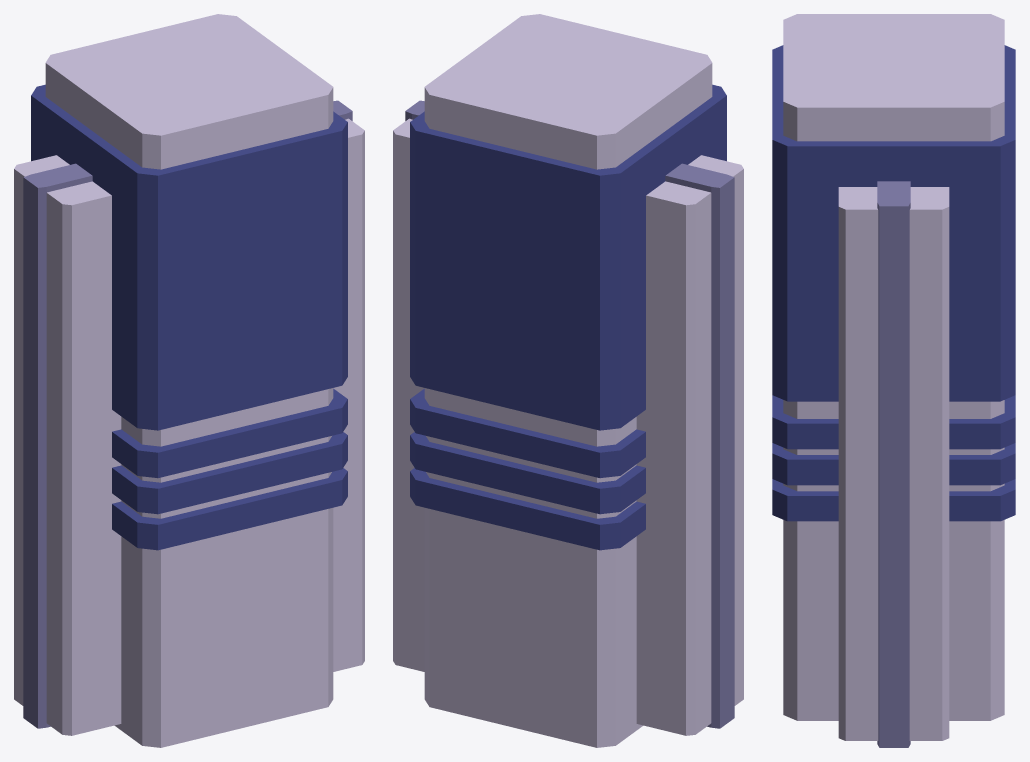
Rendered from Building13.fbx.
3 renders of one model, left to right at view 1: azimuth 30°, elevation 25°; view 2: azimuth 150°, elevation 25°; view 3: azimuth 270°, elevation 25°, orthographic.
Visible parts, largest first — view 1: Cube, Cube.001, Cube.006, Cube.009, Cube.005, Cube.002, Cube.004, Cube.003; view 2: Cube, Cube.001, Cube.006, Cube.009, Cube.005, Cube.002, Cube.004, Cube.003; view 3: Cube, Cube.005, Cube.001, Cube.010, Cube.002, Cube.003, Cube.004.
Boxes of the visible parts, x1,y1,x2,y2 form: Cube: [45, 14, 333, 747]; Cube.001: [31, 84, 347, 430]; Cube.006: [14, 155, 121, 735]; Cube.009: [23, 163, 92, 728]; Cube.005: [333, 118, 364, 671]; Cube.002: [112, 388, 347, 478]; Cube.004: [112, 468, 347, 550]; Cube.003: [112, 432, 347, 514]; Cube: [424, 14, 712, 747]; Cube.001: [410, 84, 726, 430]; Cube.006: [636, 155, 743, 735]; Cube.009: [665, 163, 734, 728]; Cube.005: [393, 118, 424, 671]; Cube.002: [410, 388, 645, 478]; Cube.004: [410, 468, 645, 550]; Cube.003: [410, 432, 645, 514]; Cube: [783, 14, 1004, 720]; Cube.005: [838, 187, 949, 740]; Cube.001: [772, 45, 1015, 401]; Cube.010: [877, 181, 910, 747]; Cube.002: [772, 395, 1015, 449]; Cube.003: [772, 443, 1015, 485]; Cube.004: [772, 479, 1015, 521].
Size of the model in its own units: 1827 by 3395 by 1221.
